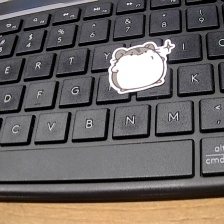mouse: (108, 40, 181, 92)
